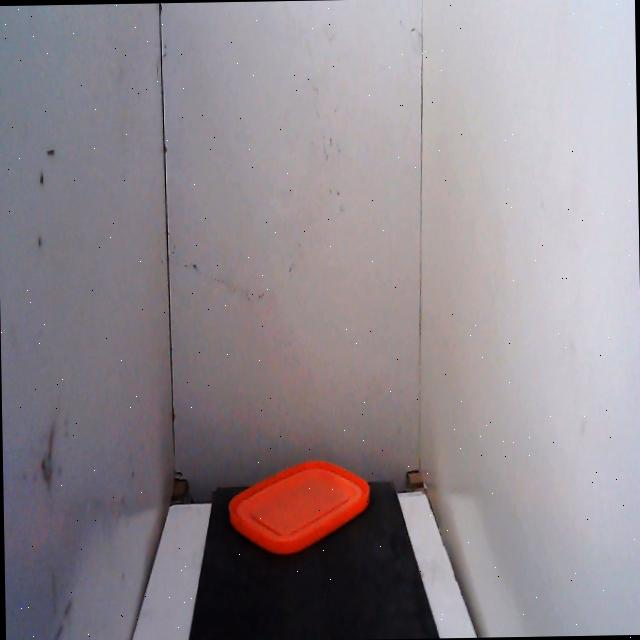plastico: (219, 441, 378, 574)
